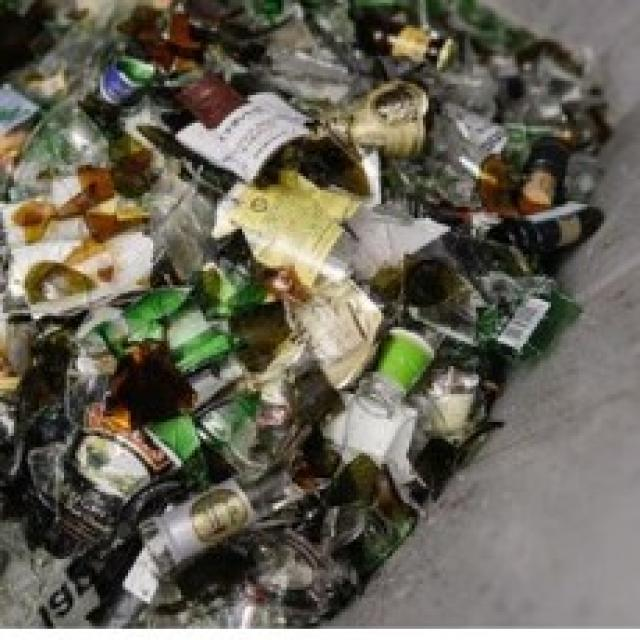electronic: (35, 330, 204, 554), (117, 453, 310, 585), (15, 48, 162, 199), (354, 316, 448, 428), (484, 199, 609, 264)
